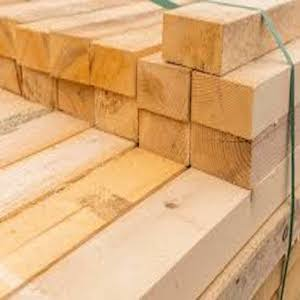combustible: (42, 173, 276, 266), (92, 18, 256, 142)
